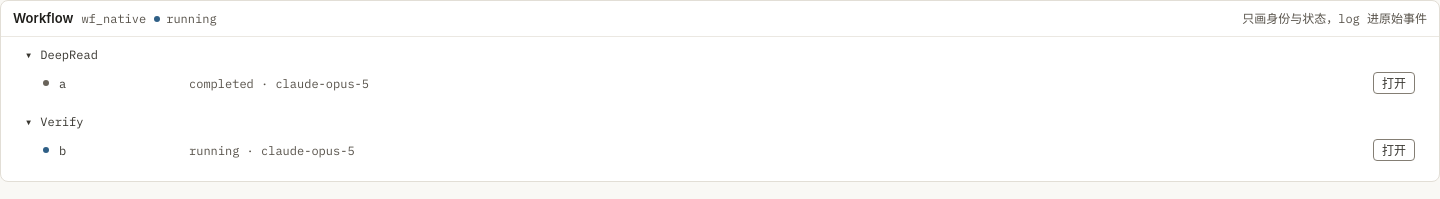
Test: WorkflowTree phase chevron › two summary clicks do not double-toggle the native details (React owns it)
Click the heading "DeepRead".
click(69, 54)  # box [40,47,98,62]
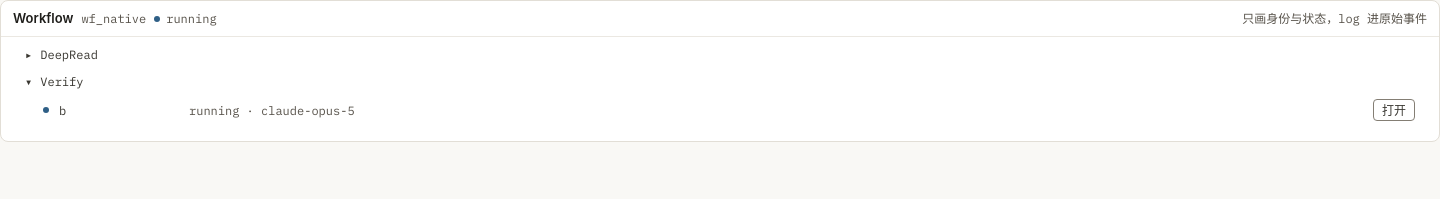
Result: the list "a completed · claude-opus-5 打开" is gone
// Second click reopens both the DOM details and React state.
Click the heading "DeepRead".
click(69, 54)  # box [40,47,98,62]
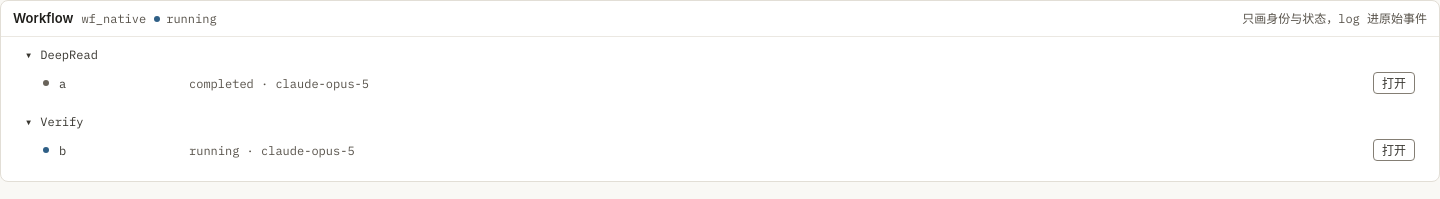
Result: the list "a completed · claude-opus-5 打开" is shown at [43,72,1415,94]
